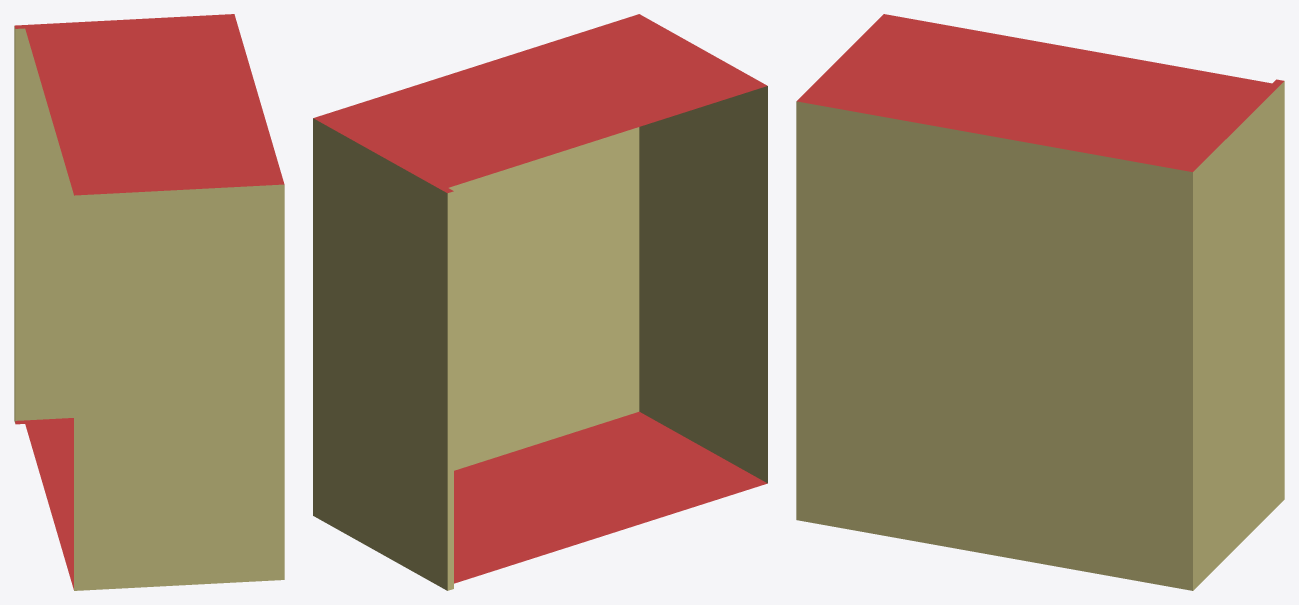
The picture shows the model from 3 angles, left to right: view 1: azimuth 30°, elevation 25°; view 2: azimuth 150°, elevation 25°; view 3: azimuth 270°, elevation 25°; orthographic projection. The views are drawn at different scales.
Parts seen in each view (by area): view 1: group_4, group_3, group_5; view 2: group_4, group_3, group_5; view 3: group_4, group_3.
Part boxes in pixels (<box>): group_4: <box>14,26,284,590</box>; group_3: <box>14,14,284,195</box>; group_5: <box>15,418,73,589</box>; group_4: <box>313,86,767,590</box>; group_3: <box>313,14,767,193</box>; group_5: <box>454,411,767,583</box>; group_4: <box>796,81,1284,590</box>; group_3: <box>797,14,1283,171</box>.
Size of the model in its own units: 6.26 by 8.16 by 7.73.
